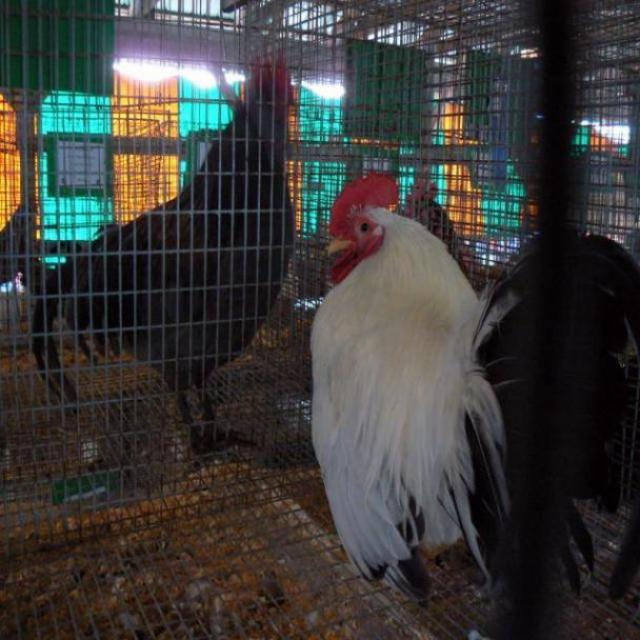Chicken: (317, 153, 639, 640), (31, 36, 296, 461)
